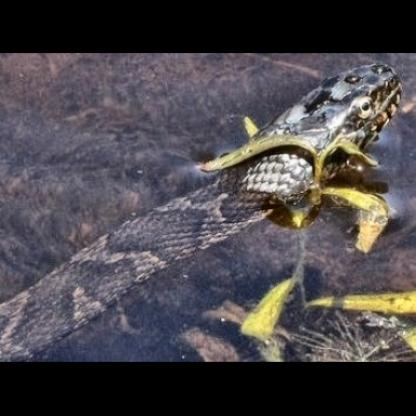Snake: (158, 56, 404, 258)
